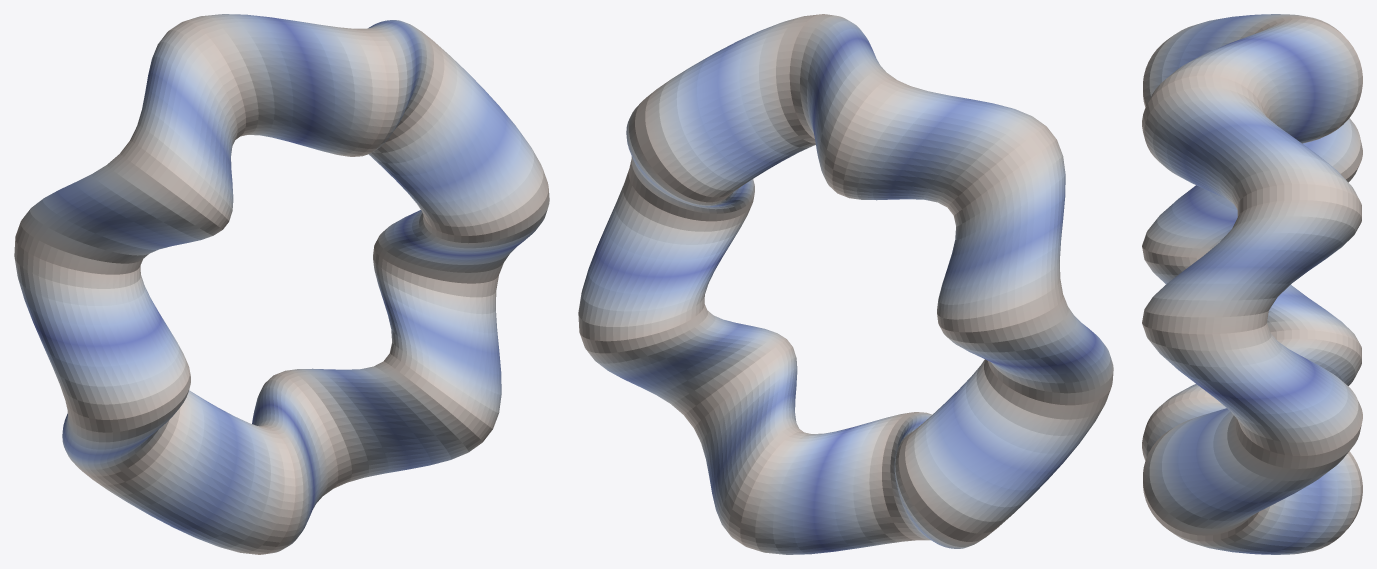
File: step_11.glb
The picture shows the model from 3 angles, left to right: view 1: azimuth 30°, elevation 25°; view 2: azimuth 150°, elevation 25°; view 3: azimuth 270°, elevation 25°; orthographic projection. The views are drawn at different scales.
Parts seen in each view (by area): view 1: world; view 2: world; view 3: world.
Part boxes in pixels (x1=…): world: x1=14, y1=14, x2=549, y2=554; world: x1=578, y1=14, x2=1113, y2=554; world: x1=1142, y1=14, x2=1362, y2=554.
Bounding box in the file's own units: 26 × 26 × 10.61.
